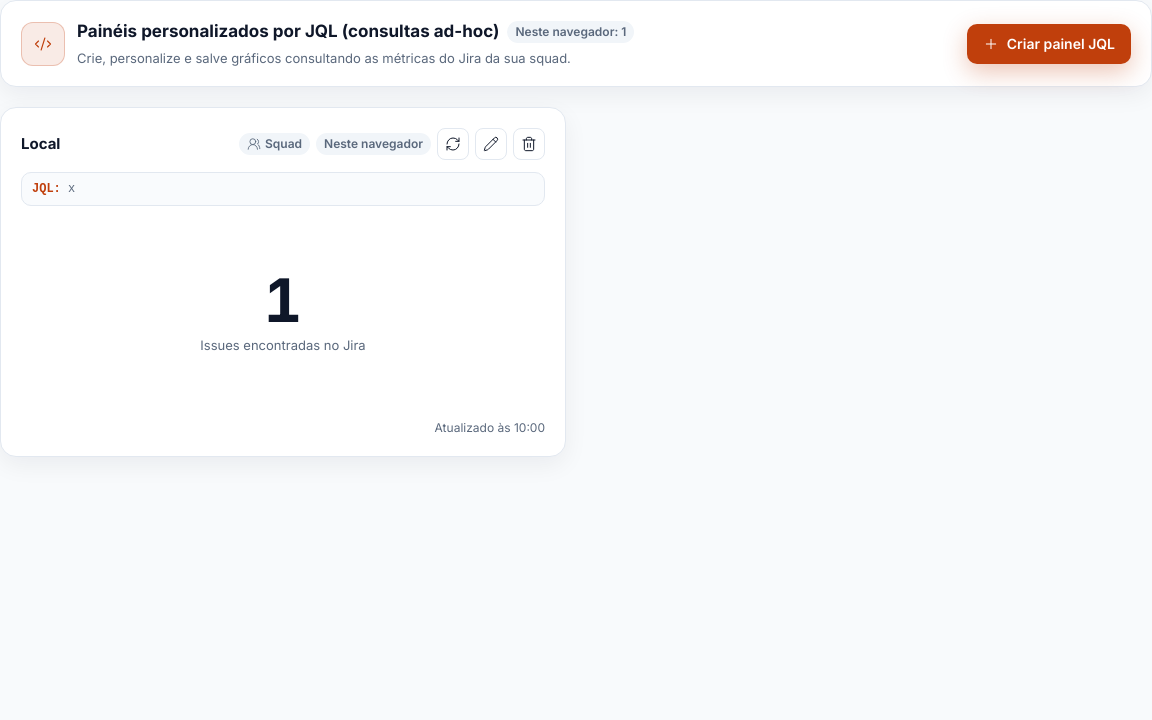
Test: painéis da squad (servidor) › servidor responde 404: a opção da squad fica desligada e o painel vai para o navegador
Expected: the heading "Local" is shown, x1=21 y1=133 x2=60 y2=155
Click the button "Criar painel JQL": [1049, 44] box x1=967 y1=24 x2=1131 y2=64
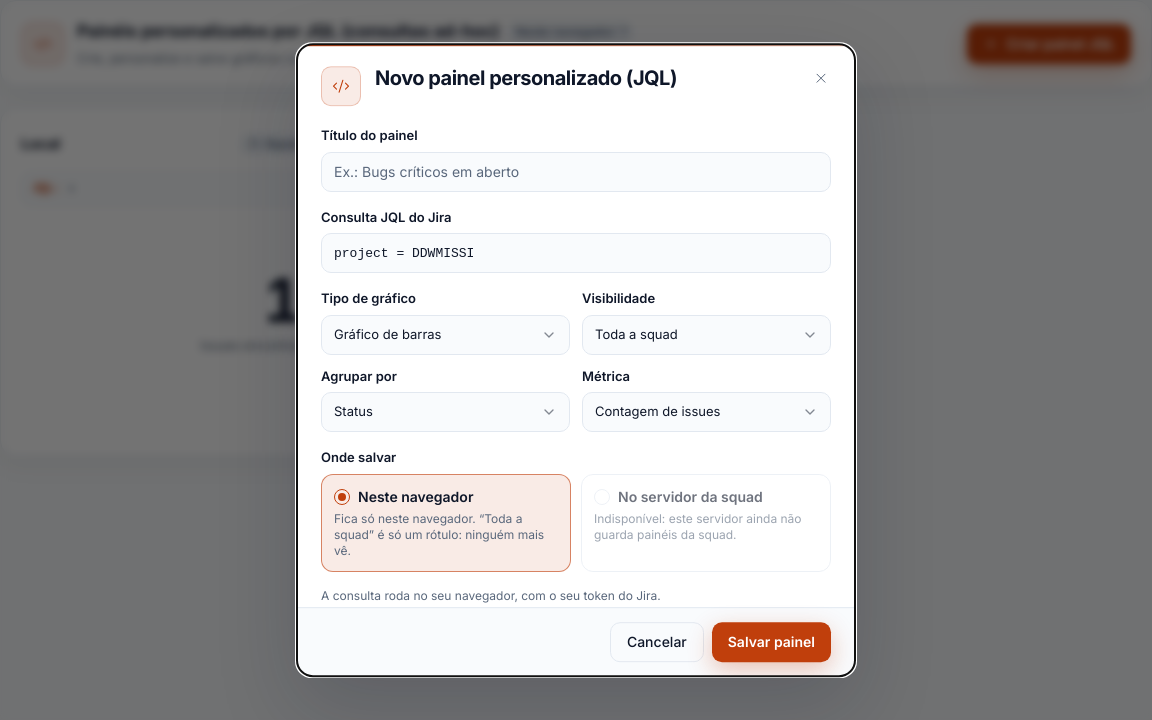
Expected: the radio button labelled "No servidor da squad" is disabled, x1=581 y1=474 x2=831 y2=572
Expected: the radio button labelled "No servidor da squad" shows "ainda não guarda painéis da squad", x1=581 y1=474 x2=831 y2=572
In the field labelled "Título do painel": [576, 172] box x1=321 y1=152 x2=831 y2=192, type "Só aqui"
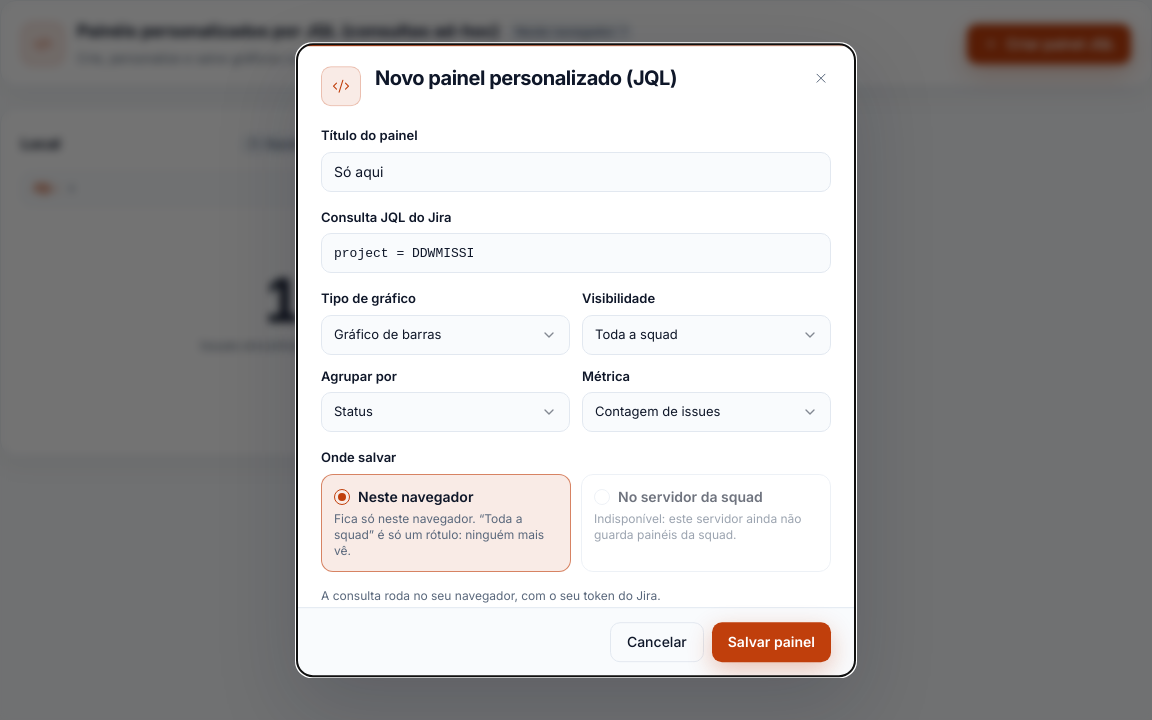
Click the button "Salvar painel": [771, 642] box x1=712 y1=622 x2=831 y2=662
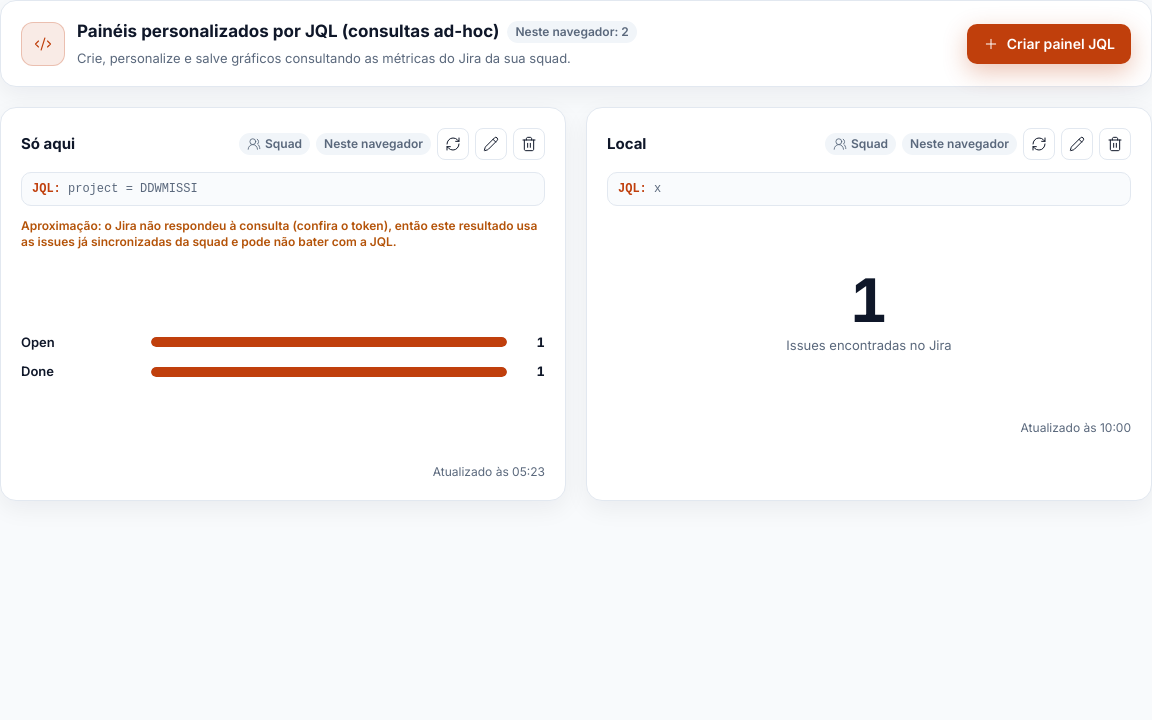
Expected: the heading "Só aqui" is shown, x1=21 y1=133 x2=75 y2=155
